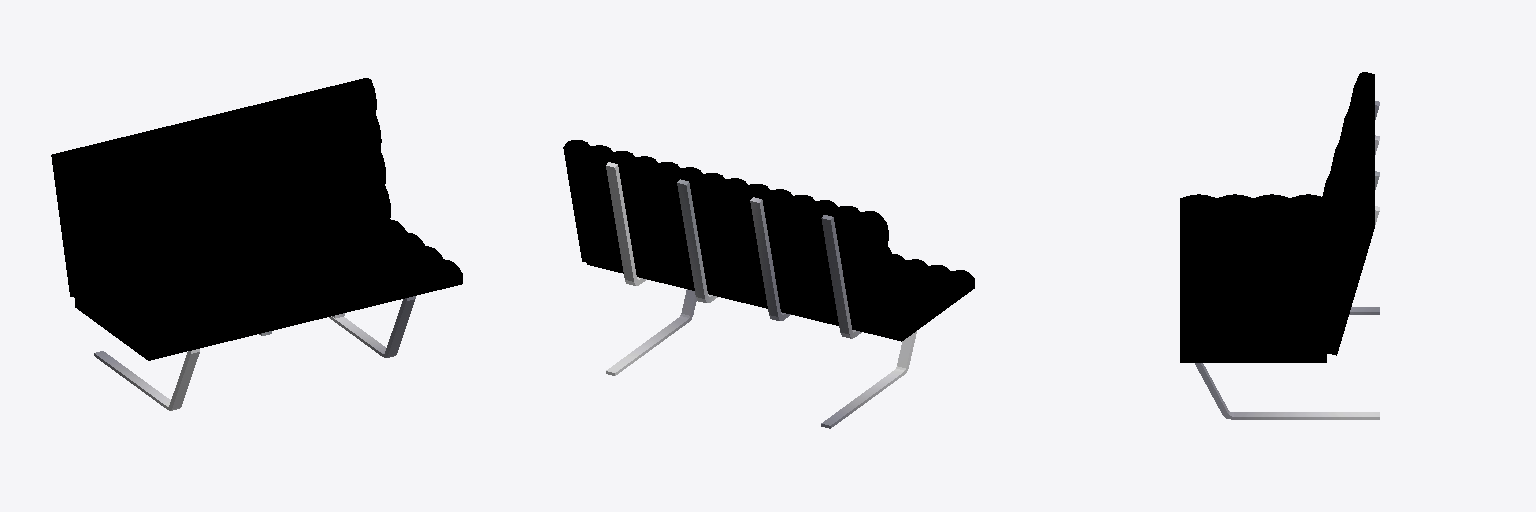
The picture shows the model from 3 angles: view 1: azimuth 30°, elevation 25°; view 2: azimuth 150°, elevation 25°; view 3: azimuth 270°, elevation 25°; orthographic projection.
Parts seen in each view (by area): view 1: sillon:MeshpolySurface152, sillon:MeshpolySurface355, sillon:MeshpolySurface201polySurface208, sillon:MeshpolySurface351, sillon:MeshpolySurface201polySurface203, sillon:MeshpolySurface160, sillon:MeshpolySurface40, sillon:MeshpolySurface15, sillon:MeshpolySurface72, sillon:MeshpolySurface163, sillon:MeshpolySurface111, sillon:MeshpolySurface354 (+28 smaller); view 2: sillon:MeshpolySurface351, sillon:MeshpolySurface346, sillon:MeshpolySurface201polySurface202, sillon:MeshpolySurface201polySurface212, sillon:MeshpolySurface206polySurface202, sillon:MeshpolySurface201polySurface207, sillon:MeshpolySurface201polySurface208, sillon:MeshpolySurface201polySurface203, sillon:MeshpolySurface152; view 3: sillon:MeshpolySurface346, sillon:MeshpolySurface355, sillon:MeshpolySurface201polySurface203, sillon:MeshpolySurface351.
Boxes of the visible parts, box(x1,y1,x2,y2) form: sillon:MeshpolySurface152: box(75, 297, 305, 360); sillon:MeshpolySurface355: box(306, 272, 462, 321); sillon:MeshpolySurface201polySurface208: box(94, 351, 199, 410); sillon:MeshpolySurface351: box(51, 116, 213, 297); sillon:MeshpolySurface201polySurface203: box(329, 299, 414, 357); sillon:MeshpolySurface160: box(66, 222, 93, 261); sillon:MeshpolySurface40: box(304, 90, 331, 130); sillon:MeshpolySurface15: box(349, 79, 376, 119); sillon:MeshpolySurface72: box(169, 123, 196, 163); sillon:MeshpolySurface163: box(57, 151, 84, 190); sillon:MeshpolySurface111: box(259, 101, 286, 141); sillon:MeshpolySurface354: box(214, 112, 241, 152); sillon:MeshpolySurface351: box(721, 178, 902, 337); sillon:MeshpolySurface346: box(563, 140, 738, 299); sillon:MeshpolySurface201polySurface202: box(750, 197, 790, 320); sillon:MeshpolySurface201polySurface212: box(821, 215, 861, 338); sillon:MeshpolySurface206polySurface202: box(677, 179, 717, 302); sillon:MeshpolySurface201polySurface207: box(606, 162, 646, 285); sillon:MeshpolySurface201polySurface208: box(821, 331, 916, 428); sillon:MeshpolySurface201polySurface203: box(606, 289, 696, 375); sillon:MeshpolySurface152: box(745, 278, 974, 341); sillon:MeshpolySurface346: box(1325, 148, 1374, 355); sillon:MeshpolySurface355: box(1180, 348, 1326, 362); sillon:MeshpolySurface201polySurface203: box(1195, 363, 1379, 419); sillon:MeshpolySurface351: box(1359, 72, 1374, 150).
Size of the model in its own units: 1.26 by 0.8317 by 0.6887.
2 materials, 1 textured.